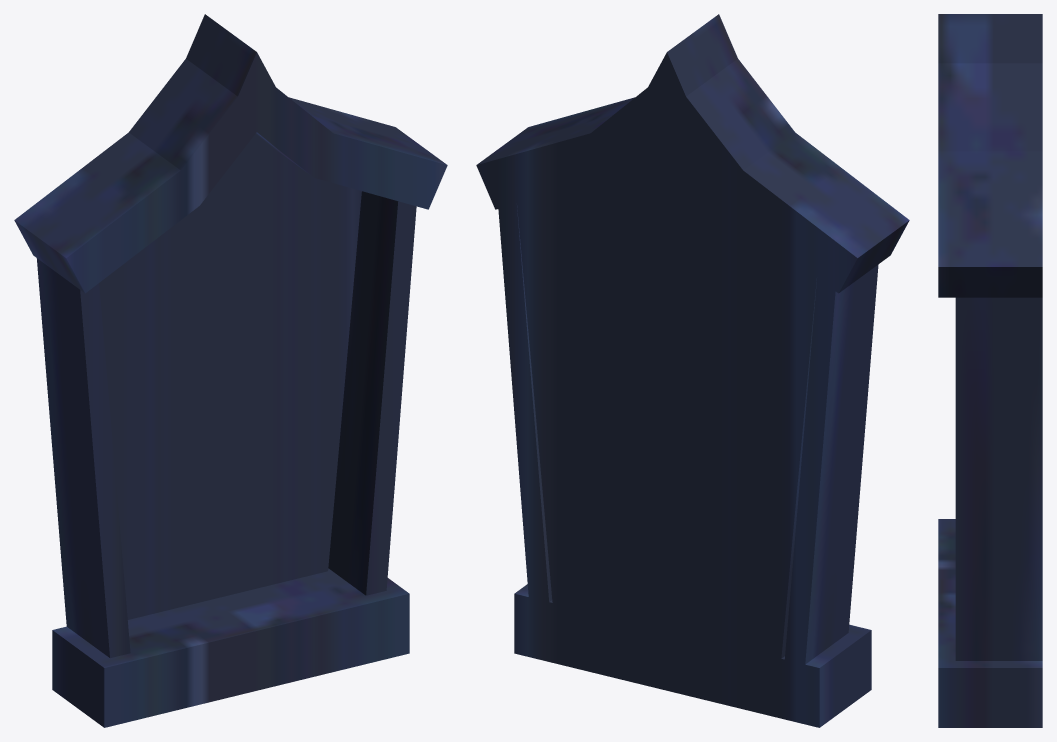
Rendered from WINDOW_JUWELLIER_2901.glb.
3 renders of one model, left to right at view 1: azimuth 30°, elevation 25°; view 2: azimuth 150°, elevation 25°; view 3: azimuth 270°, elevation 25°, orthographic.
Visible parts, largest first — view 1: Line002; view 2: Line002; view 3: Line002.
Boxes of the visible parts, left/top/right/bottom form: Line002: left=14, top=14, right=447, bottom=727; Line002: left=476, top=14, right=909, bottom=727; Line002: left=938, top=14, right=1042, bottom=727.
Size of the model in its own units: 0.18 by 0.288 by 0.0425.
1 material, 1 textured.
